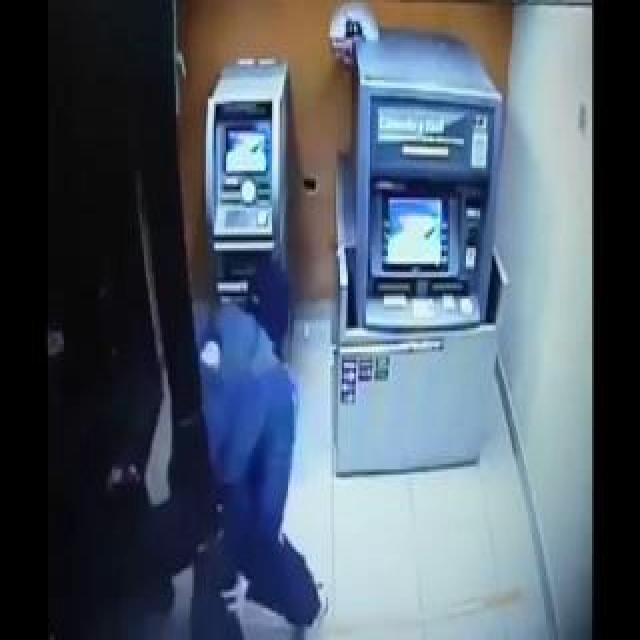thief: (237, 260, 318, 360)
